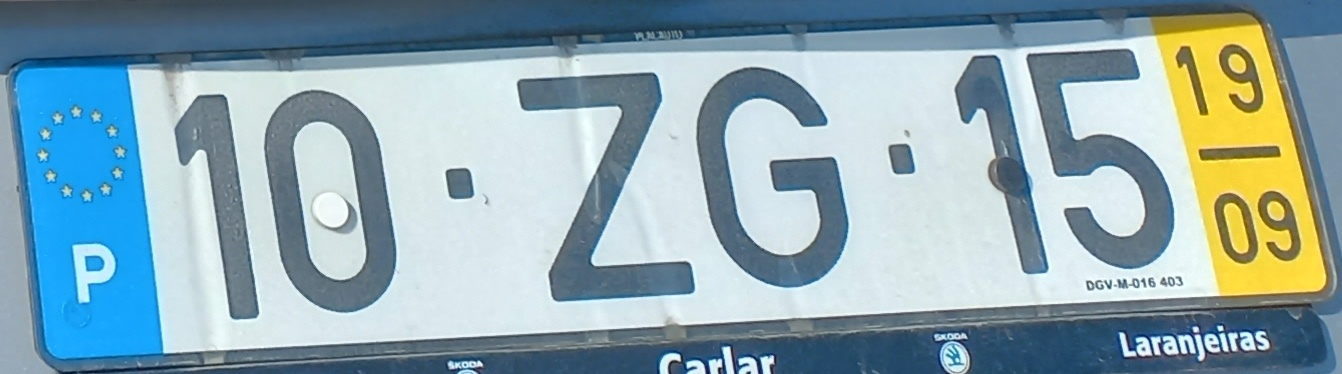0: (255, 83, 404, 322)
1: (947, 51, 1057, 280), (167, 88, 263, 328)
5: (1019, 45, 1182, 275)
G: (690, 61, 854, 300)
Z: (510, 66, 702, 308)
